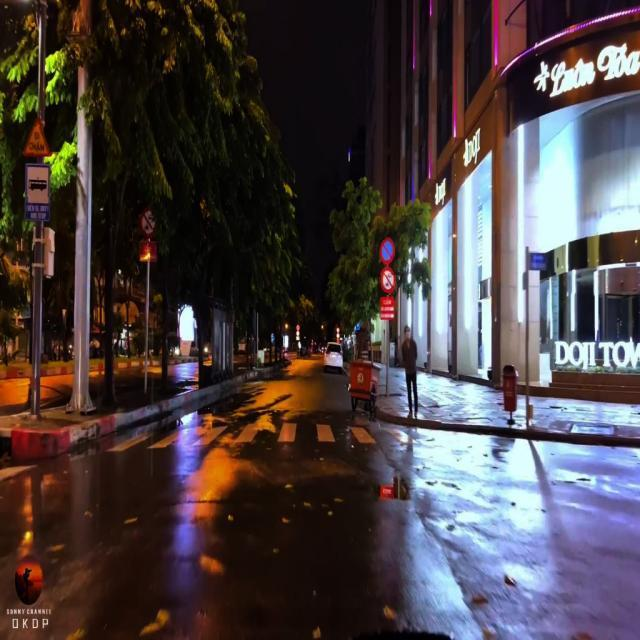131a-cam-do-xe: (378, 237, 396, 264)
245-di-cham: (22, 120, 53, 158)
